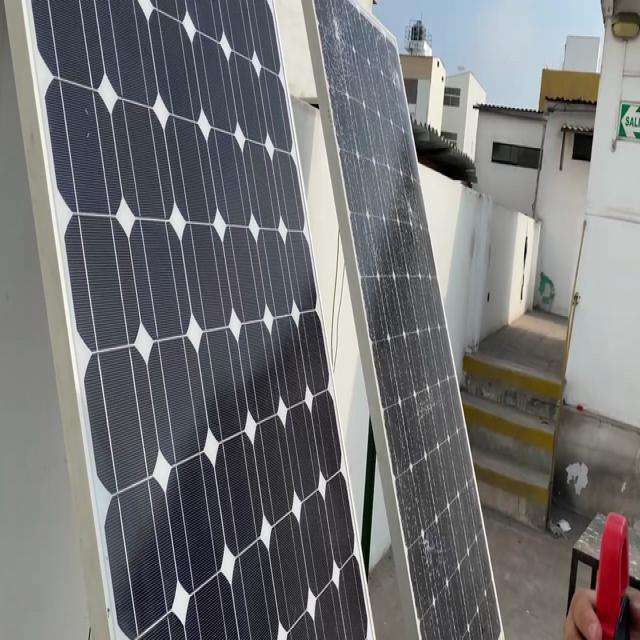Normal Solar Panel: (33, 0, 370, 640)
